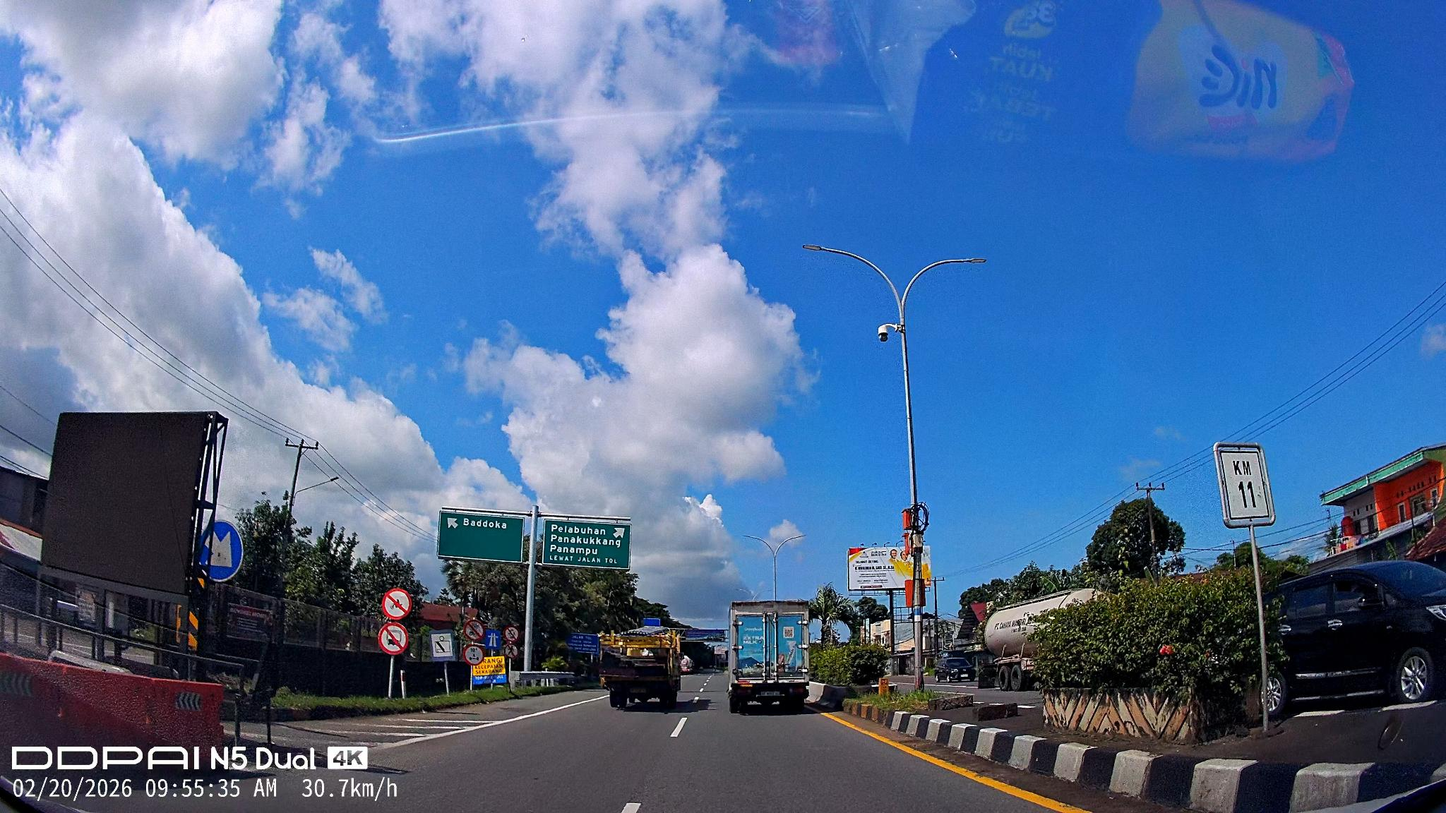rambu_teks: (436, 509, 526, 564), (541, 517, 632, 571)
